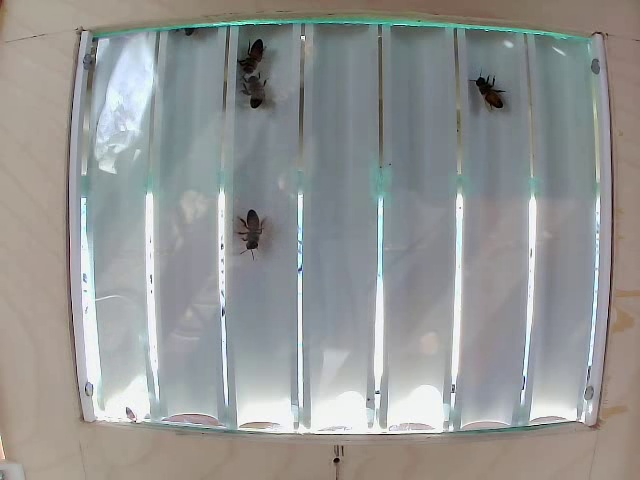bee: (241, 82, 273, 122), (244, 217, 271, 256), (232, 42, 262, 74), (480, 83, 505, 121)
